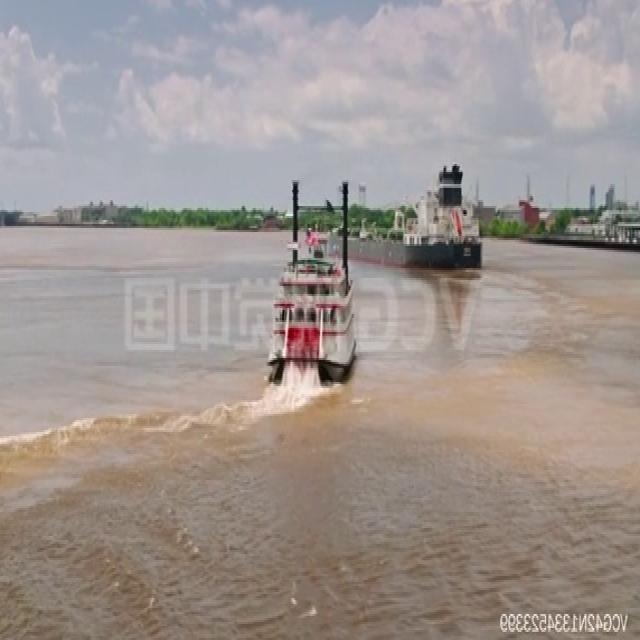cargoship: (324, 154, 485, 269)
passenger ship: (266, 192, 364, 389)
